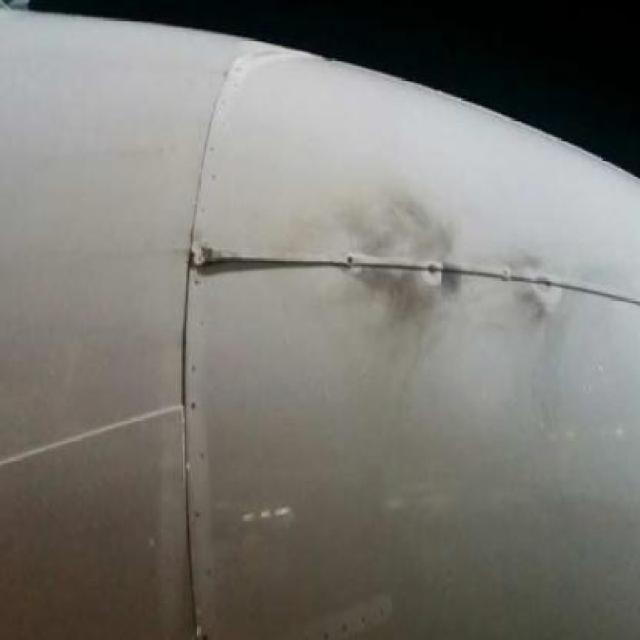crack: (195, 250, 341, 270)
